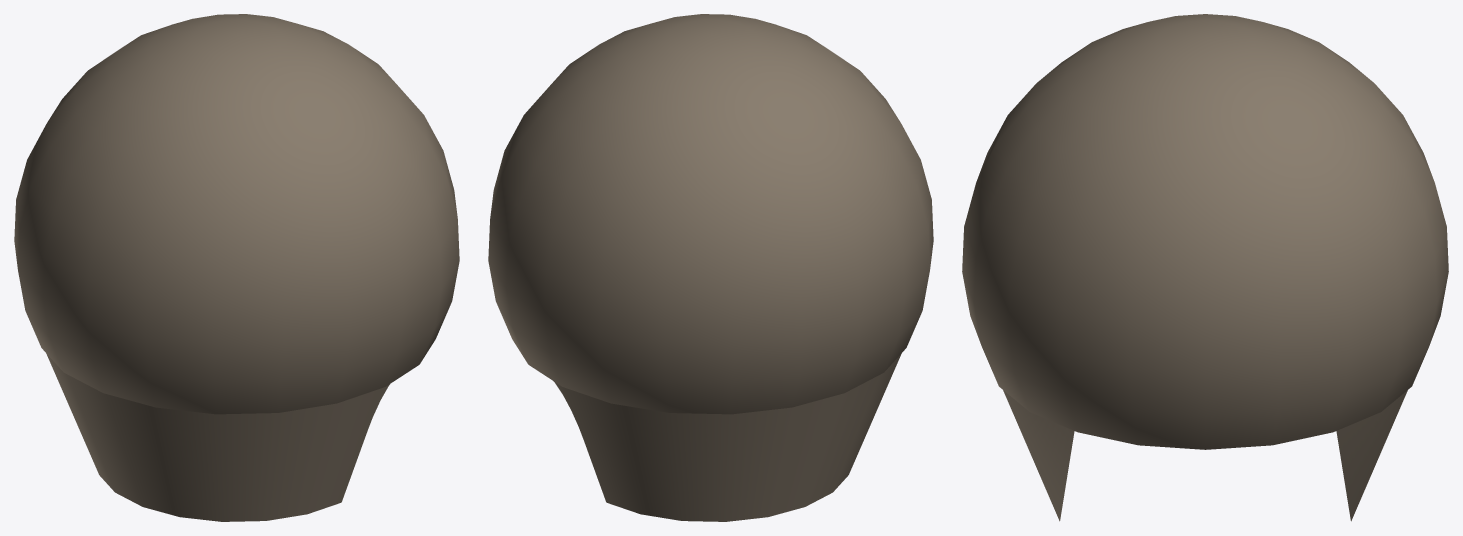
Rendered from long.glb.
3 views of the same model, side by side, from view 1: azimuth 30°, elevation 25°; view 2: azimuth 150°, elevation 25°; view 3: azimuth 270°, elevation 25° (orthographic). The views are drawn at different scales.
Visible parts, largest first — view 1: Hair_long; view 2: Hair_long; view 3: Hair_long.
Boxes of the visible parts, x1,y1,x2,y2 form: Hair_long: (14,14,459,521); Hair_long: (488,14,933,521); Hair_long: (962,14,1448,521).
Size of the model in its own units: 2.31 by 2.43 by 2.31.
